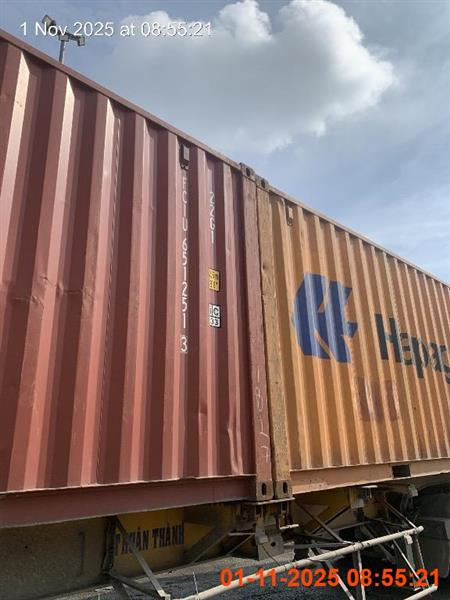broken: (3, 30, 449, 596)
